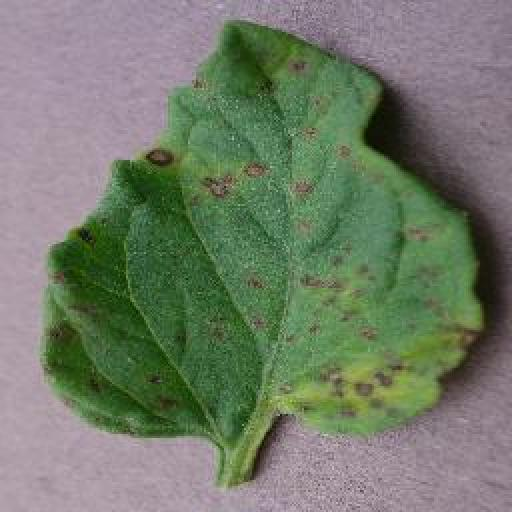Septoria: (38, 18, 488, 438)
